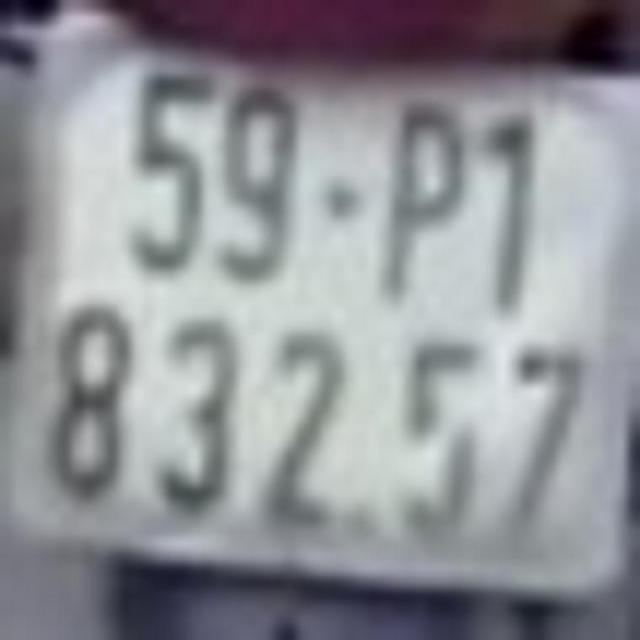1: (485, 112, 536, 310)
2: (250, 323, 344, 532)
3: (148, 316, 234, 510)
5: (394, 333, 478, 536), (140, 68, 203, 270)
7: (500, 339, 584, 559)
8: (50, 298, 129, 506)
9: (216, 82, 296, 282)
P: (374, 84, 477, 311)
